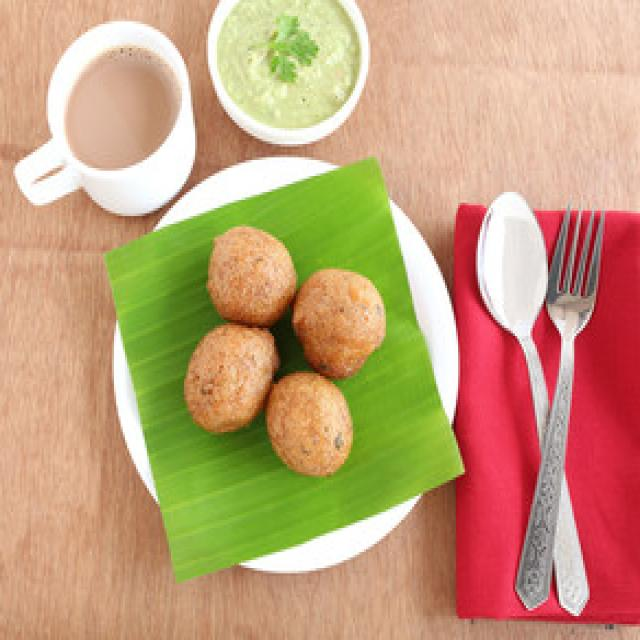BONDA: (187, 225, 384, 473)
GREEN CHUTNEY: (215, 1, 357, 125)
